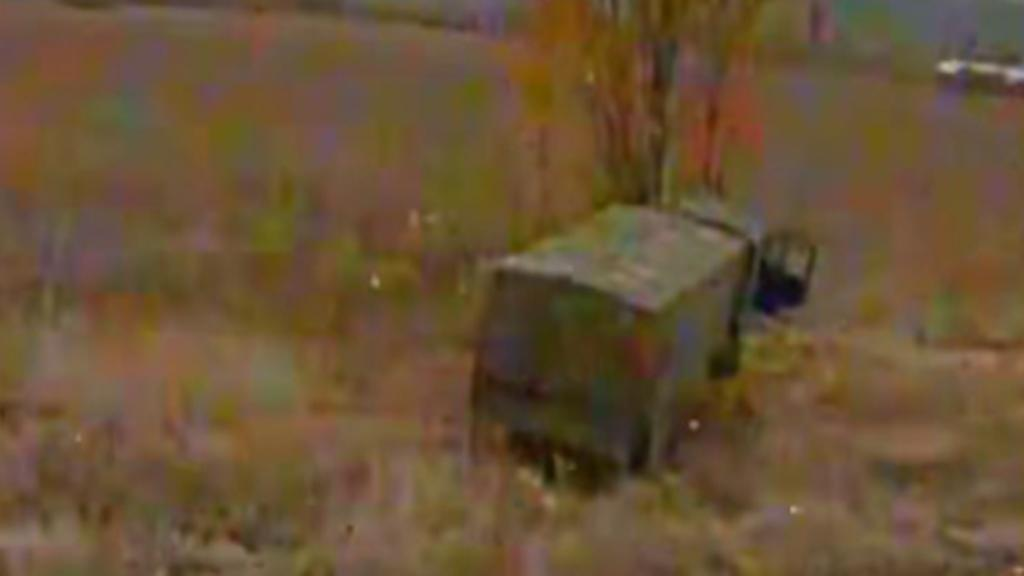TRUCK: (466, 187, 816, 465)
